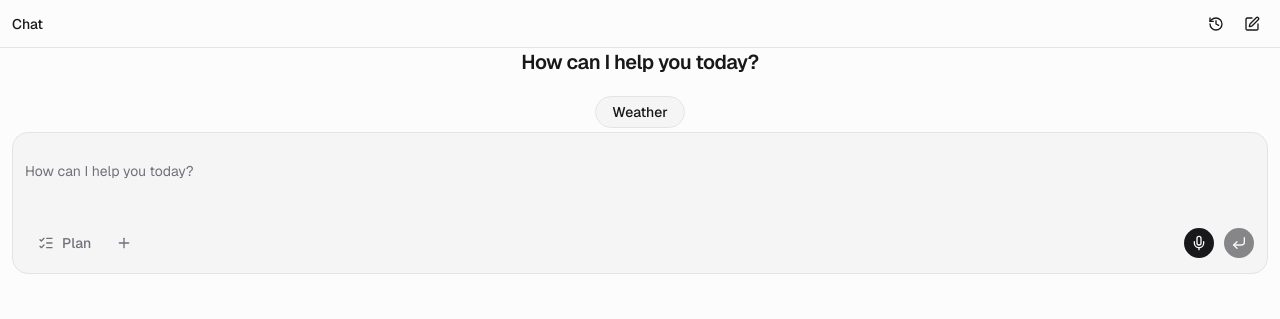
ChatPanel — the parts that keep a run moving › shows a failed turn as an error
The width and height of the screenshot is (1280, 319).
Click the button "Weather": coordinates (640, 112) [595,96,685,128]
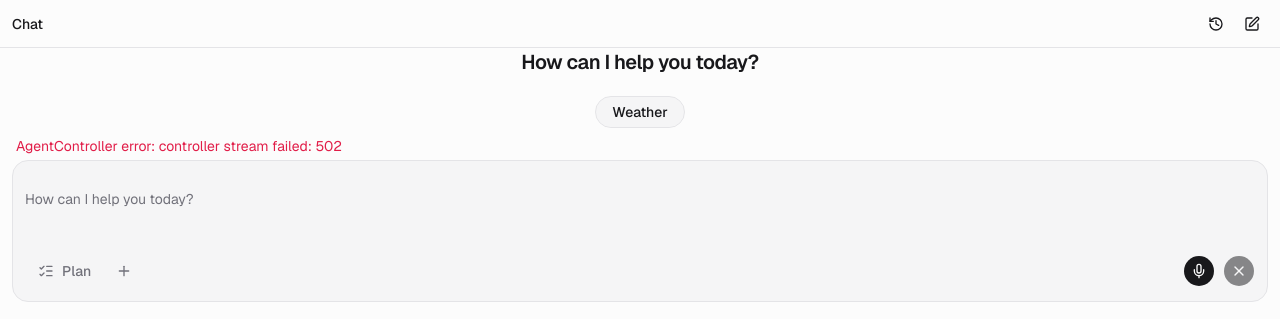
Check: the message reads "AgentController error: controller stream failed: 502", box [16,137,342,155]
